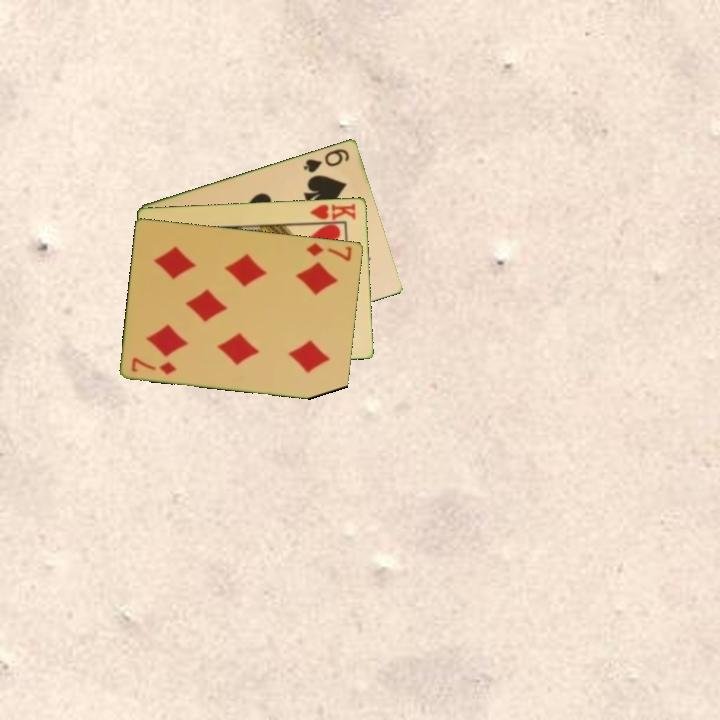6s: (300, 145, 352, 175)
7d: (302, 239, 355, 263), (128, 354, 179, 378)
Kh: (304, 200, 359, 225)
